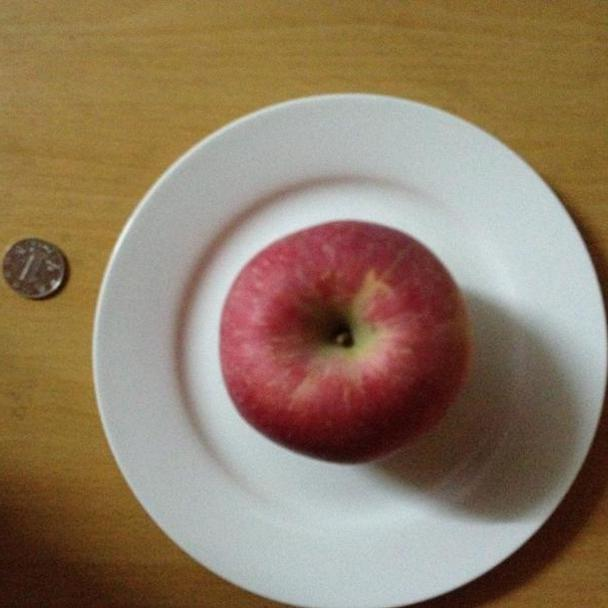apple: (217, 219, 477, 465)
